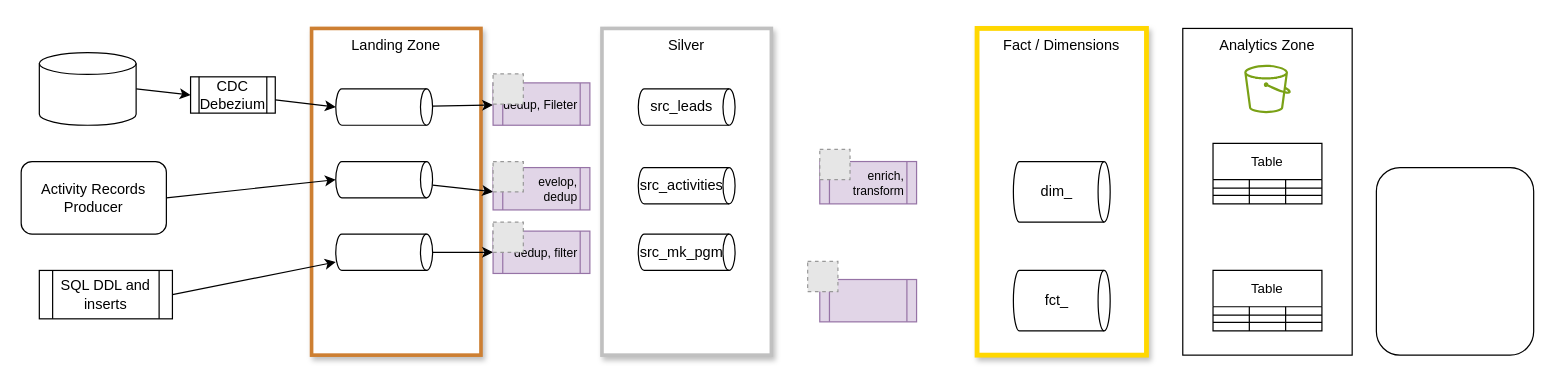
Image size: 1555x386. Some labels were removed from this diagram. Grey dashed boxes stand in for pictures. Each missing label, with the centre of its shape:
"BI Dashboard" goes at point (1454, 260).
"Leads" goes at point (87, 88).
"Raw leads" goes at point (384, 106).
"Raw Topics" goes at point (384, 179).
"raw_md_pgm" goes at point (384, 251).
"windowing stateful" goes at point (868, 300).
